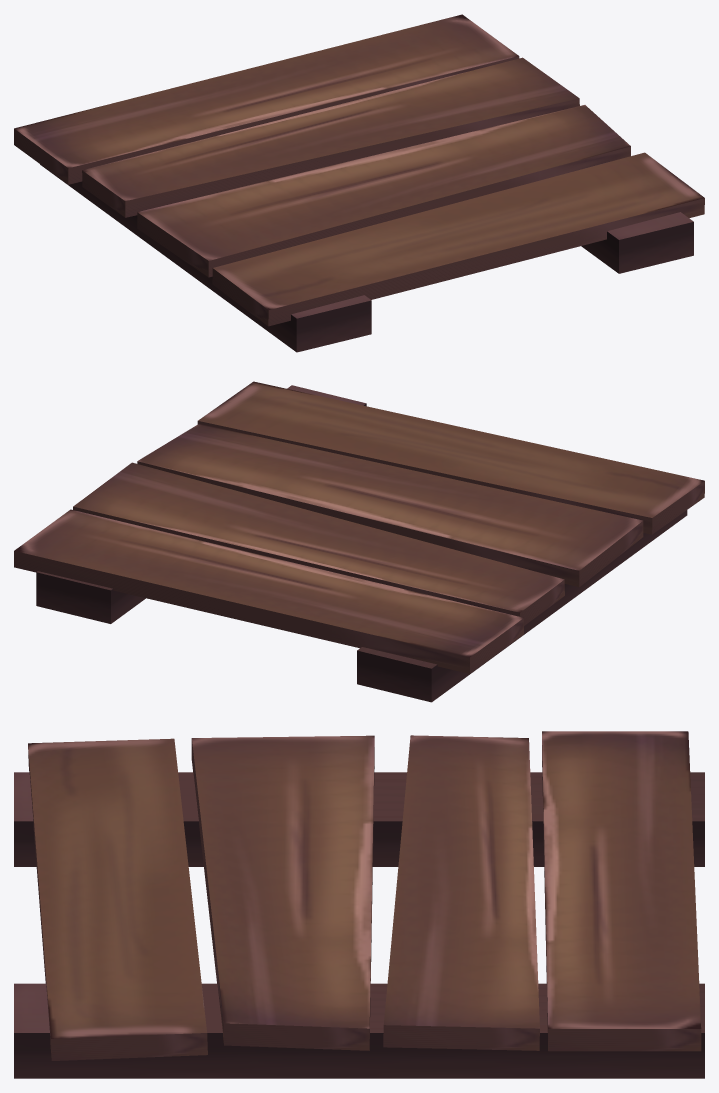
The model's file is bridge_2.gltf.
The picture shows the model from 3 angles, top to bottom: view 1: azimuth 30°, elevation 25°; view 2: azimuth 150°, elevation 25°; view 3: azimuth 270°, elevation 25°; orthographic projection. The views are drawn at different scales.
Parts seen in each view (by area): view 1: Bridge2Mesh; view 2: Bridge2Mesh; view 3: Bridge2Mesh.
Boxes of the visible parts, x1,y1,x2,y2 form: Bridge2Mesh: (14,14,704,352); Bridge2Mesh: (14,381,704,702); Bridge2Mesh: (14,731,704,1078).
Size of what is drawn, in the model's own units: 1.02 by 0.1097 by 1.
1 material, 1 textured.
